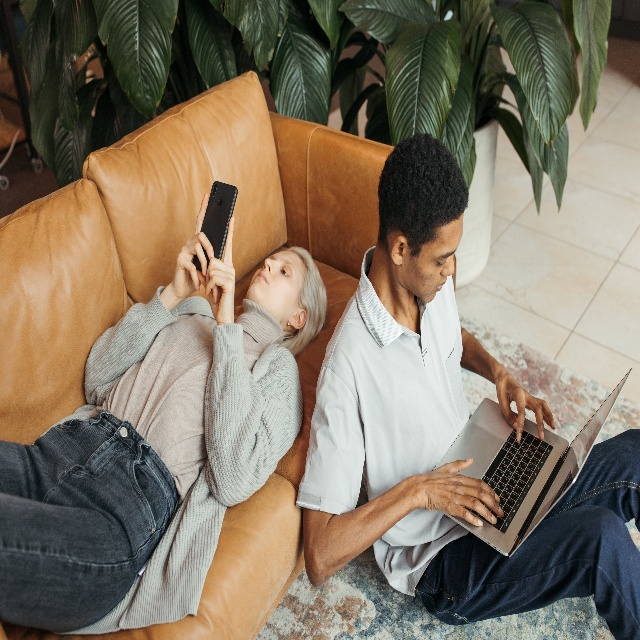Sin_guantes: (421, 456, 504, 527), (173, 190, 214, 301), (496, 371, 556, 445), (196, 215, 236, 323)
